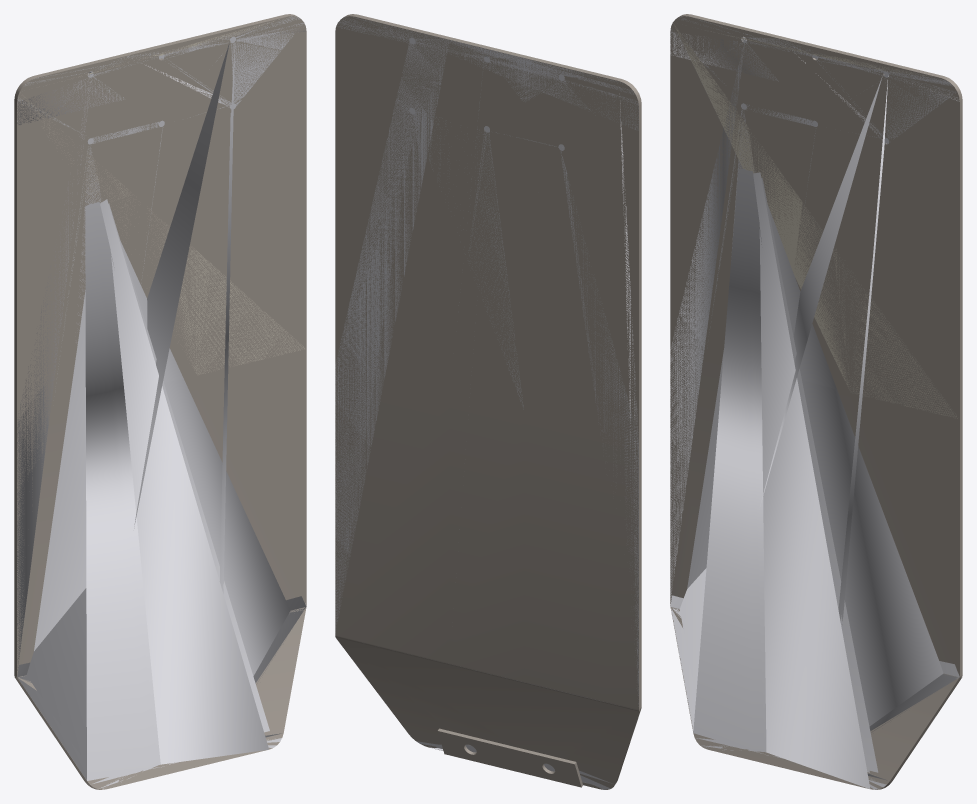
File: UA_26_Chassis_Assembly__UA26_Headrest_Assembly_1.dae
3 renders of one model, left to right at view 1: azimuth 30°, elevation 25°; view 2: azimuth 150°, elevation 25°; view 3: azimuth 330°, elevation 25°, orthographic. The views are drawn at different scales.
Visible parts, largest first — view 1: node0, node2, node1; view 2: node0, node2; view 3: node0, node2, node1.
Boxes of the visible parts, x1,y1,x2,y2 form: node0: (14, 14, 306, 789); node2: (17, 16, 306, 788); node1: (24, 19, 304, 374); node0: (335, 14, 641, 789); node2: (335, 17, 638, 789); node0: (670, 14, 962, 789); node2: (670, 16, 961, 789); node1: (674, 24, 957, 418).
Bounding box in the file's own units: 0.155 × 0.3614 × 0.0267.
